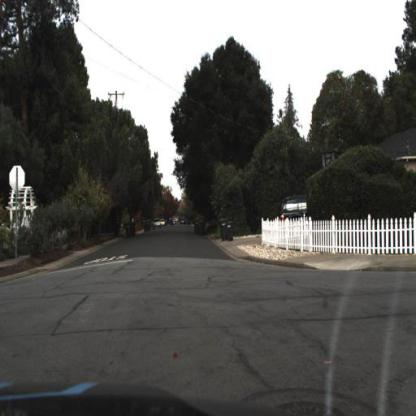car: (281, 192, 309, 225), (154, 219, 162, 230)
